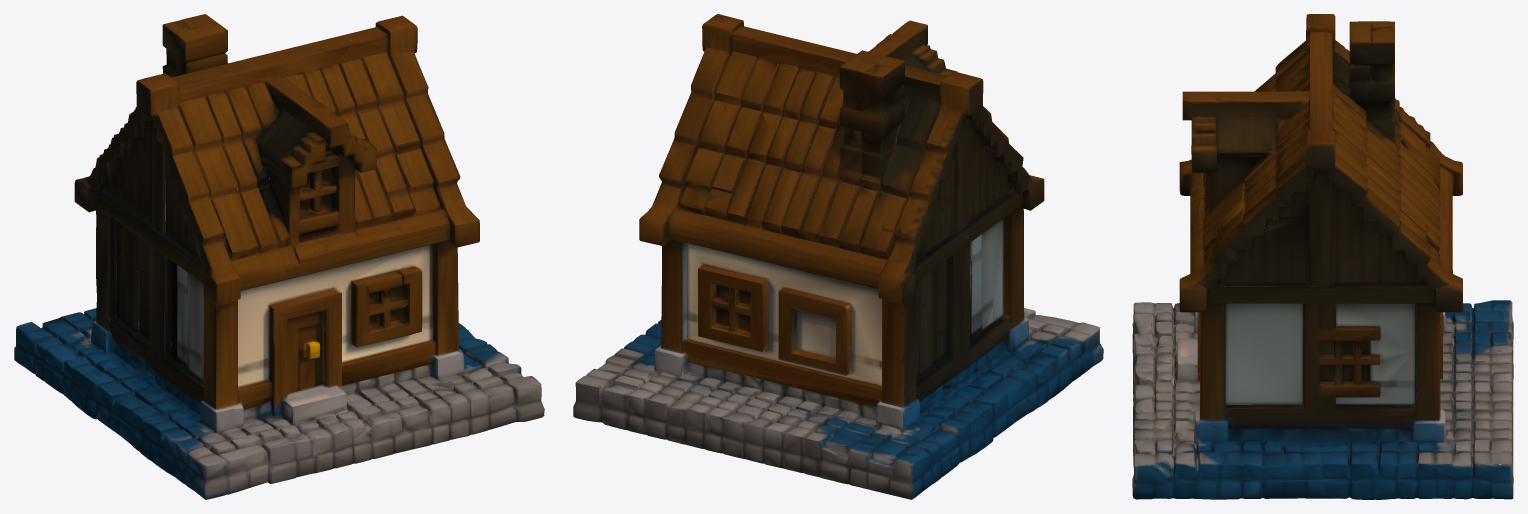
The model's file is village _house_t2.glb.
3 renders of one model, left to right at view 1: azimuth 30°, elevation 25°; view 2: azimuth 150°, elevation 25°; view 3: azimuth 270°, elevation 25°, orthographic.
Visible parts, largest first — view 1: node_0; view 2: node_0; view 3: node_0.
Boxes of the visible parts, x1,y1,x2,y2 form: node_0: (14, 14, 544, 499); node_0: (573, 14, 1103, 499); node_0: (1132, 14, 1513, 499).
Bounding box in the file's own units: 0.7013 × 0.7072 × 0.6832.
Materials: 1 (1 with a texture image).
